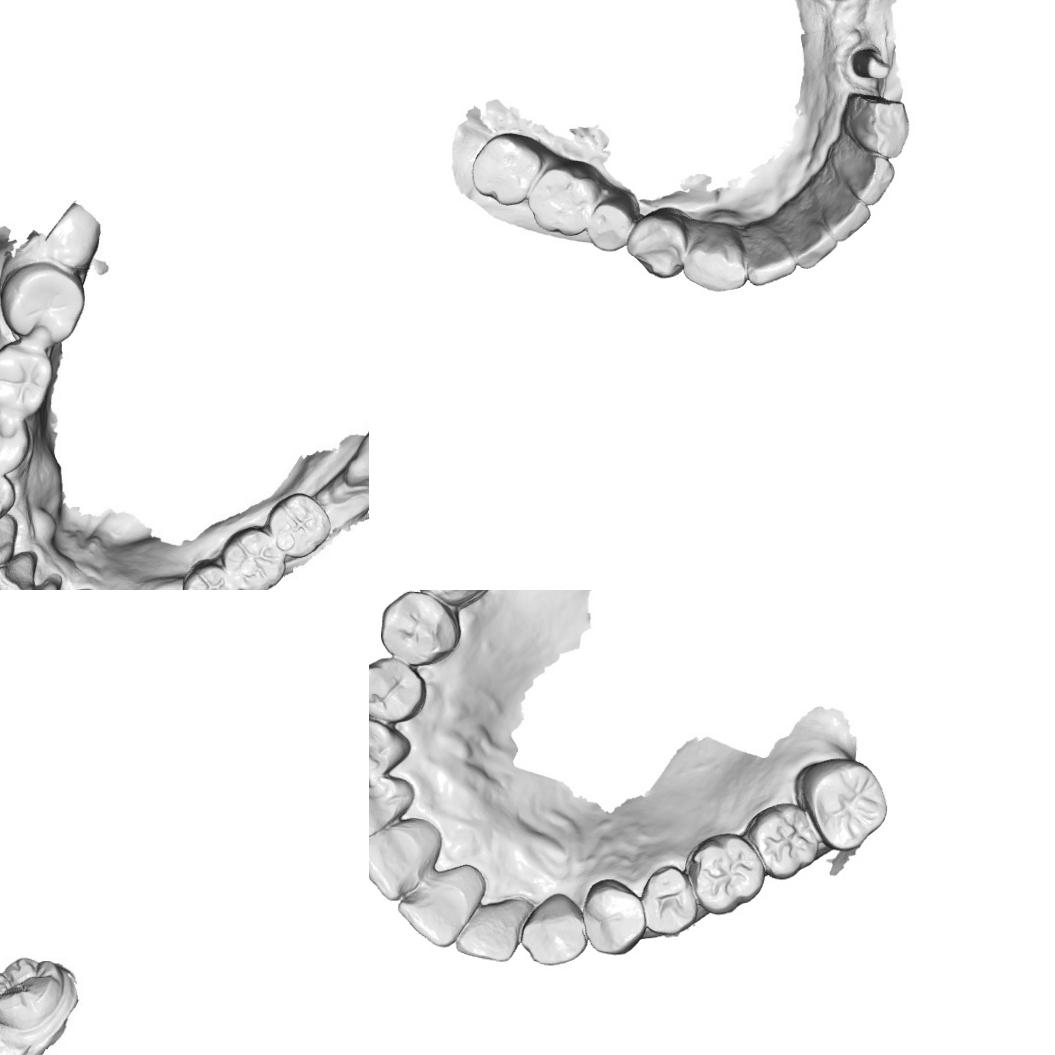abutment: (850, 42, 894, 84)
canine: (519, 888, 590, 968), (680, 220, 750, 294), (841, 91, 912, 159), (369, 717, 413, 783), (0, 515, 12, 567)
incisor: (392, 871, 470, 950), (369, 826, 432, 902), (453, 902, 528, 965), (840, 148, 895, 208), (369, 772, 417, 840), (746, 230, 799, 288), (821, 186, 871, 246), (786, 217, 840, 272), (0, 554, 31, 590), (22, 574, 61, 590)
molar: (792, 758, 890, 852), (0, 261, 85, 341), (689, 832, 766, 916), (747, 800, 826, 880), (467, 128, 543, 210), (0, 951, 68, 1037), (527, 164, 599, 240), (266, 489, 331, 561), (223, 524, 286, 590), (0, 342, 54, 417), (0, 412, 31, 476), (408, 590, 505, 609), (185, 559, 238, 590)
premolar: (375, 590, 462, 668), (582, 878, 649, 958), (624, 206, 690, 282), (639, 864, 698, 938), (369, 654, 426, 722), (587, 196, 637, 254), (0, 470, 16, 521)
